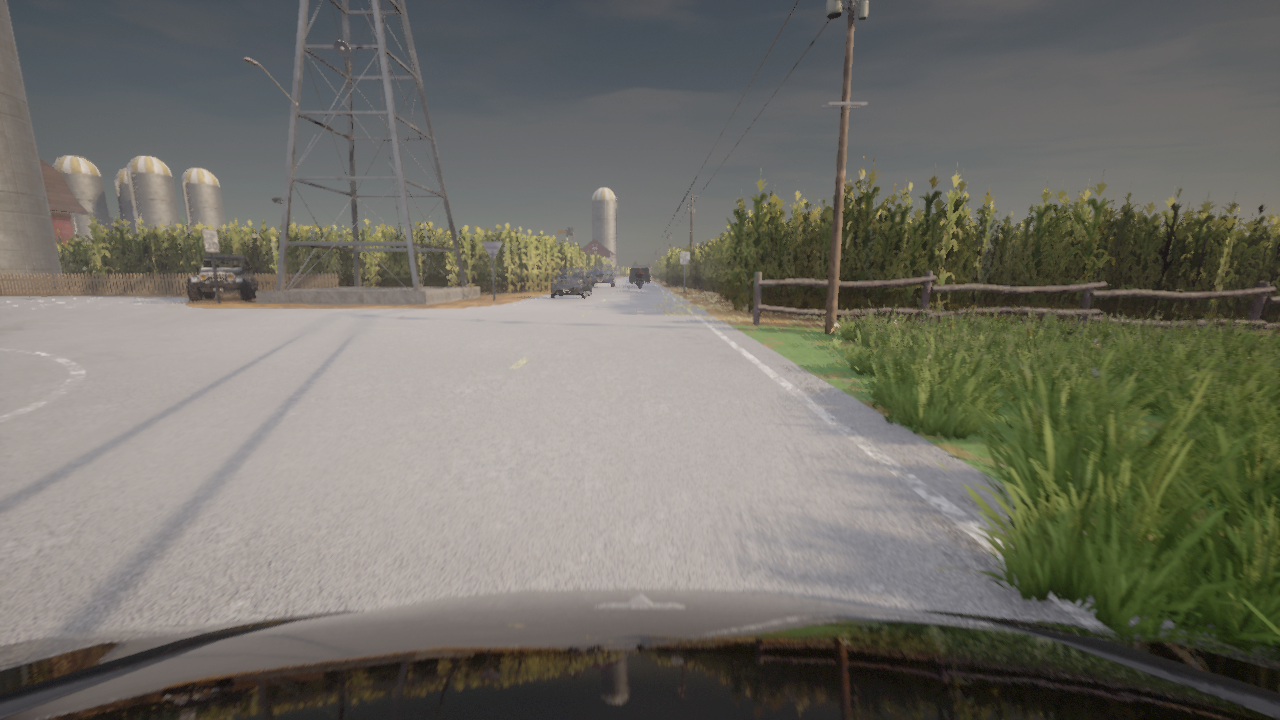cyclist: (0, 588, 1279, 719), (187, 255, 260, 300), (550, 267, 591, 299), (587, 263, 615, 287), (630, 266, 649, 282), (637, 274, 642, 287)
